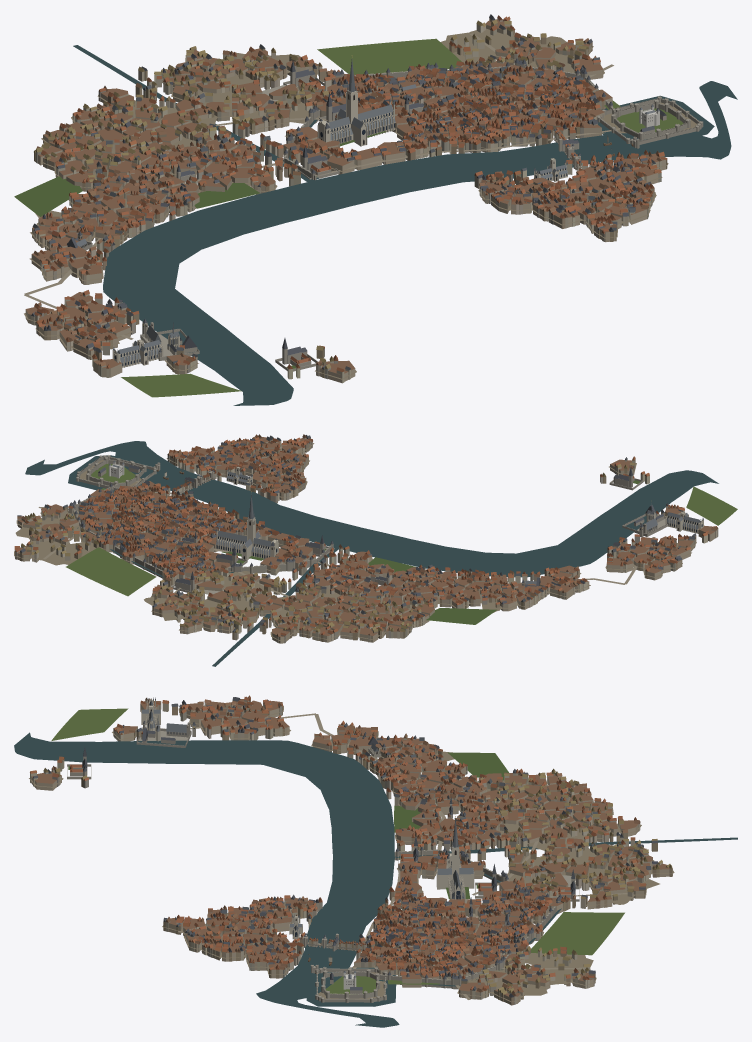
File: london.glb
The picture shows the model from 3 angles, top to bottom: view 1: azimuth 30°, elevation 25°; view 2: azimuth 150°, elevation 25°; view 3: azimuth 270°, elevation 25°; orthographic projection. The views are drawn at different scales.
Parts seen in each view (by area): view 1: houses, ground, blocks, landmarks, westminster_palace; view 2: houses, ground, blocks, landmarks, westminster_palace; view 3: houses, ground, blocks, landmarks, westminster_palace.
Boxes of the visible parts, left/top/right/bottom form: houses: left=31, top=14, right=667, bottom=383; ground: left=14, top=24, right=737, bottom=405; blocks: left=25, top=19, right=665, bottom=382; landmarks: left=112, top=55, right=714, bottom=371; westminster_palace: left=140, top=322, right=199, bottom=360; houses: left=14, top=434, right=718, bottom=643; ground: left=14, top=441, right=737, bottom=666; blocks: left=17, top=437, right=715, bottom=643; landmarks: left=68, top=455, right=703, bottom=593; westminster_palace: left=622, top=502, right=667, bottom=536; houses: left=30, top=695, right=672, bottom=1005; ground: left=14, top=705, right=737, bottom=1027; blocks: left=31, top=699, right=672, bottom=1004; landmarks: left=67, top=697, right=579, bottom=1006; westminster_palace: left=136, top=715, right=191, bottom=747.
Bounding box in the file's own units: 12.26 × 1.31 × 11.53.
